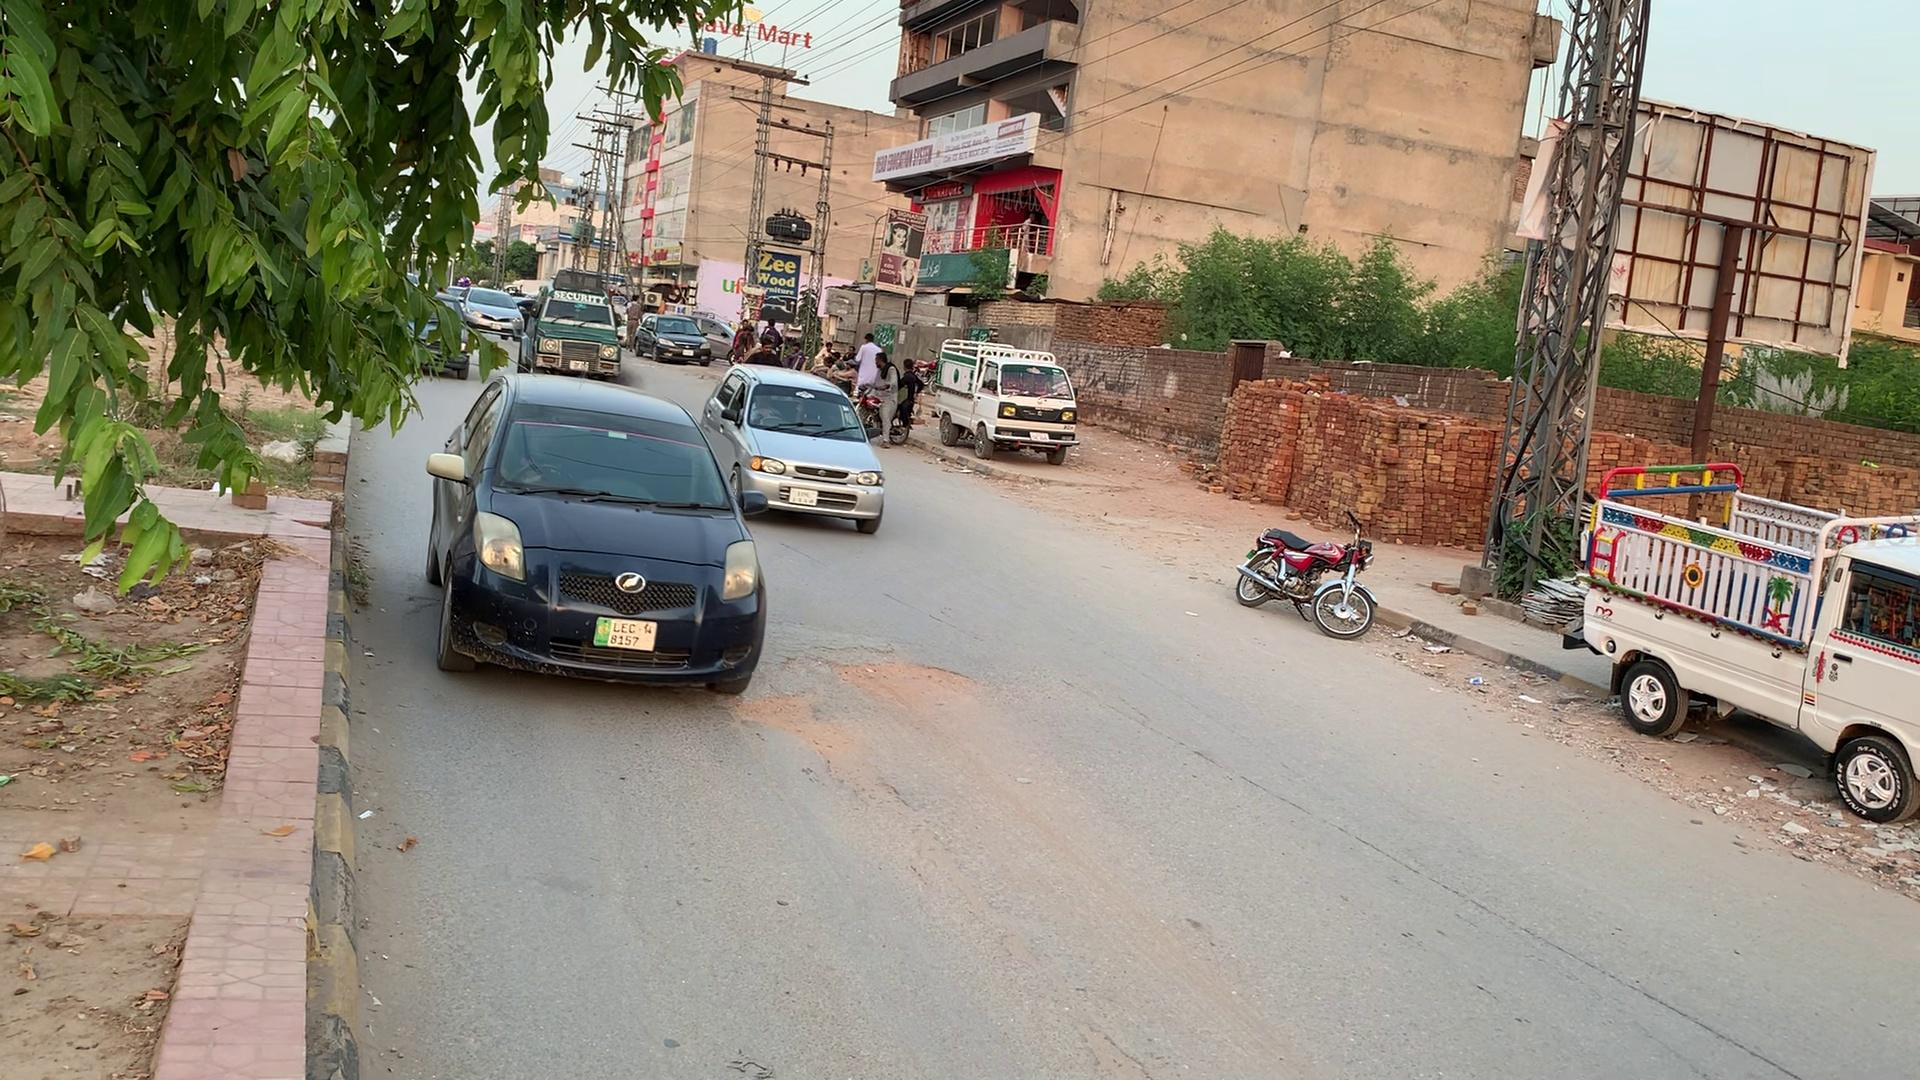windshield: (475, 400, 744, 517)
